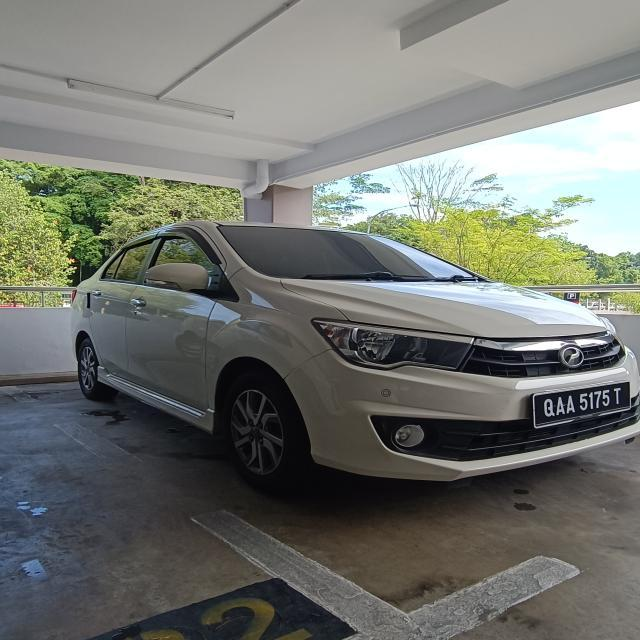PeroduaBezza: (69, 218, 639, 492)
